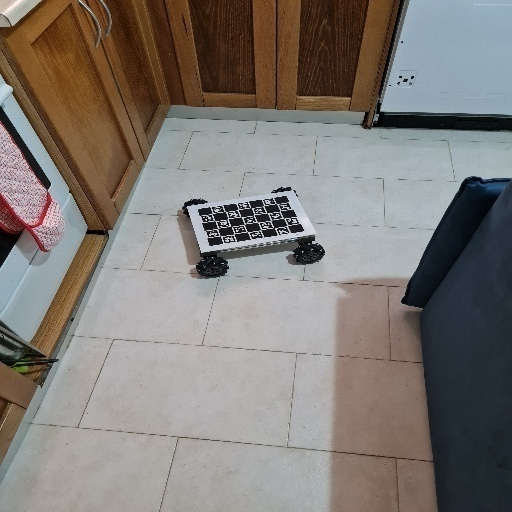Omniwheel: (184, 186, 327, 280)
